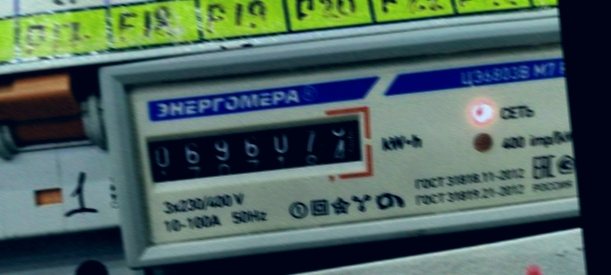0: (151, 139, 170, 165), (270, 125, 288, 151)
4: (328, 134, 347, 159)
6: (240, 129, 260, 154), (181, 136, 200, 162)
7: (300, 124, 318, 151)
9: (211, 133, 229, 159)
screen: (130, 96, 378, 195)
